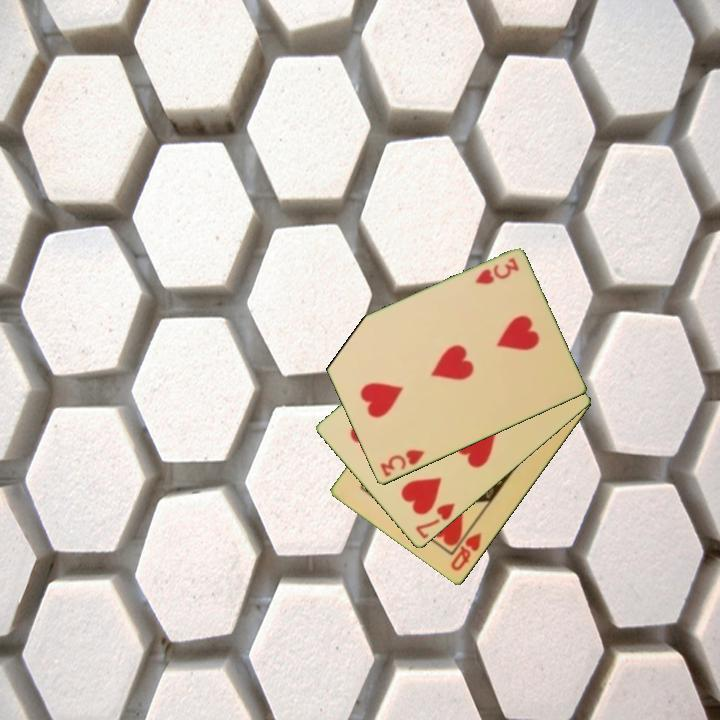3h: (376, 446, 427, 480), (471, 255, 522, 288)
7h: (412, 500, 458, 542)
Qh: (447, 529, 485, 574)
